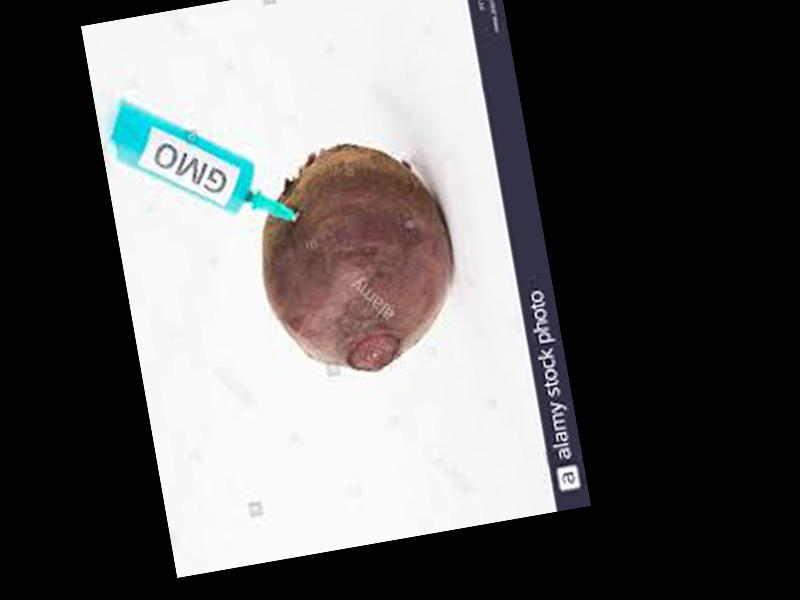Beet: (243, 133, 471, 386)
